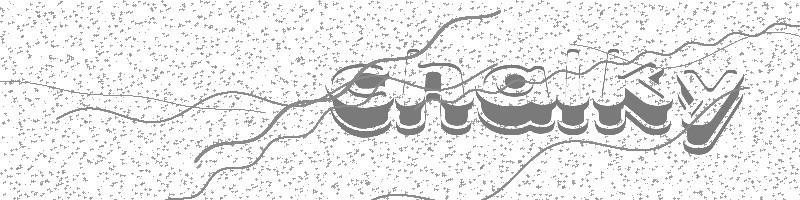a: (474, 63, 556, 135)
c: (329, 62, 393, 138)
h: (394, 48, 474, 136)
k: (592, 47, 674, 137)
l: (556, 47, 589, 137)
y: (675, 67, 747, 156)
